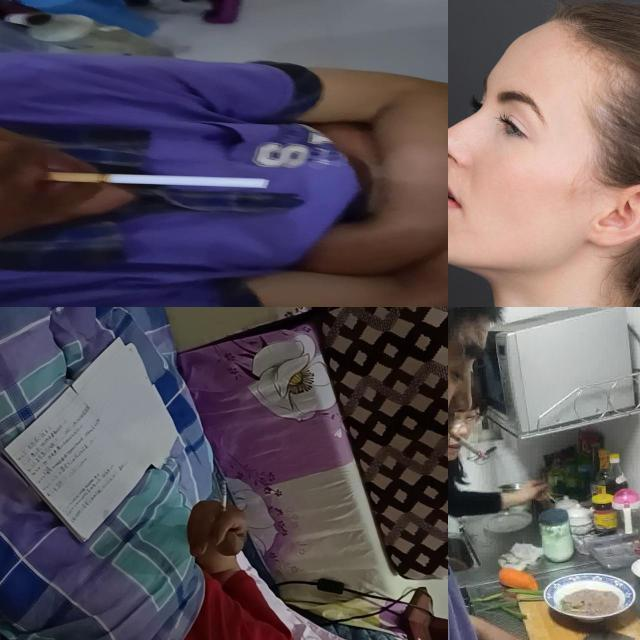smoking: (42, 172, 274, 188), (448, 428, 482, 457), (221, 479, 228, 516)
